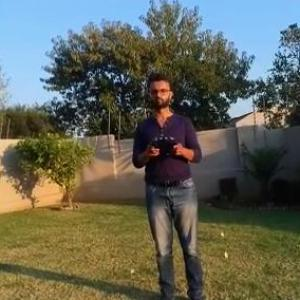follow: (125, 68, 209, 299)
